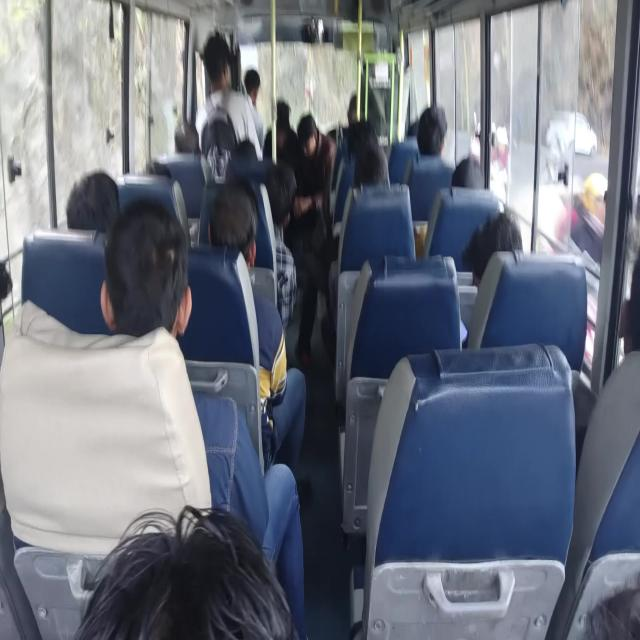person: (124, 486, 344, 638), (114, 207, 200, 317), (198, 179, 255, 253), (473, 225, 526, 284), (70, 180, 124, 235), (619, 241, 640, 374), (199, 20, 231, 92), (265, 162, 299, 223), (142, 160, 191, 201), (449, 158, 483, 214), (0, 262, 24, 340), (177, 121, 211, 172), (298, 110, 328, 159), (418, 102, 441, 158), (343, 124, 378, 160), (359, 151, 388, 194), (232, 143, 264, 181), (270, 92, 291, 130), (246, 67, 264, 105), (409, 116, 421, 144)
